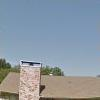Chimney: (12, 53, 47, 100)
